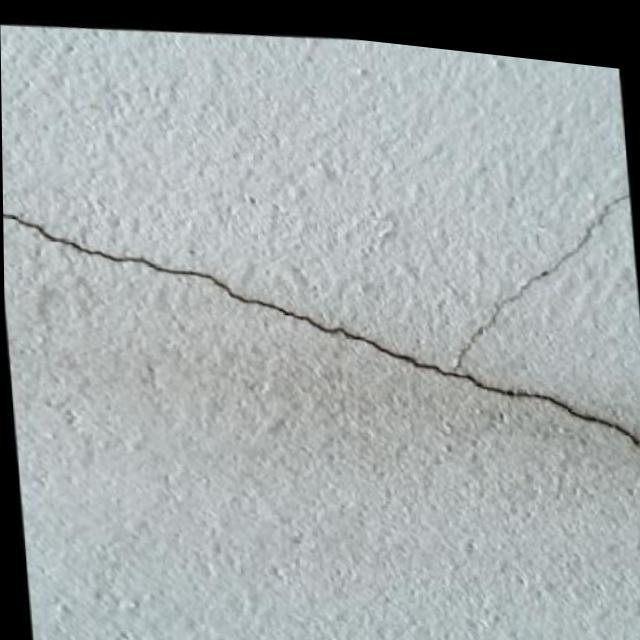Crack: (22, 188, 625, 444)
